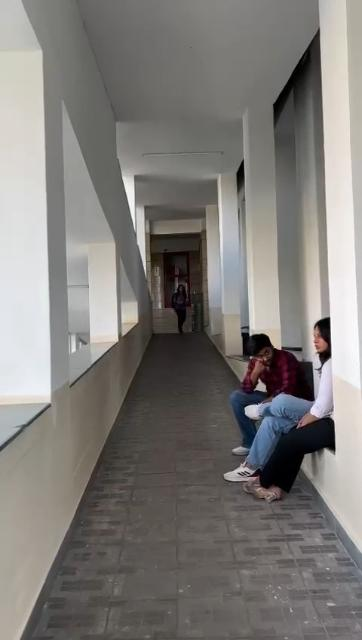floor: (27, 328, 362, 640)
moving-obj: (227, 309, 362, 517)
wall: (0, 315, 152, 640), (10, 8, 66, 398), (334, 21, 362, 516), (94, 100, 120, 348), (251, 106, 279, 330), (210, 188, 238, 314), (138, 205, 152, 338)
